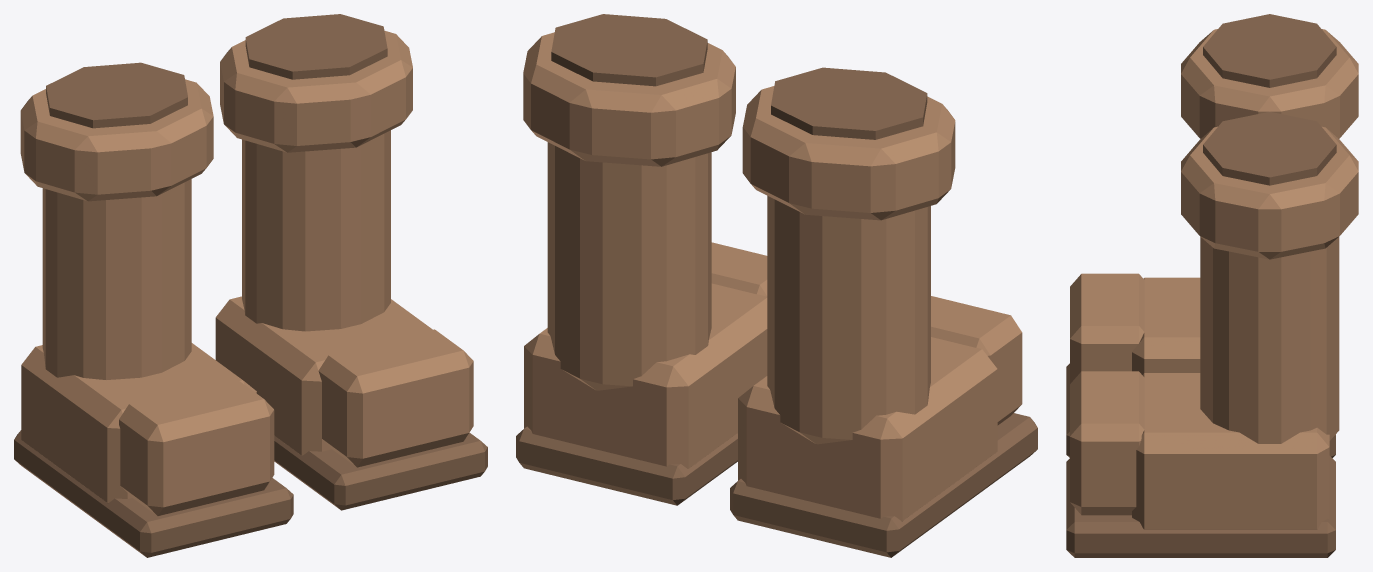
3 views of the same model, side by side, from view 1: azimuth 30°, elevation 25°; view 2: azimuth 150°, elevation 25°; view 3: azimuth 270°, elevation 25° (orthographic). The views are drawn at different scales.
Parts seen in each view (by area): view 1: left boot leg tube, right boot leg tube, left cute squared toe cap, right cute squared toe cap, left chunky folded cuff, right chunky folded cuff, left rounded boot foot, right rounded boot foot, left darker simple sole, right darker simple sole, right dark boot opening, left dark boot opening; view 2: right boot leg tube, left boot leg tube, left rounded boot foot, right rounded boot foot, left chunky folded cuff, right chunky folded cuff, left darker simple sole, right dark boot opening, left dark boot opening, right darker simple sole, left cute squared toe cap, right cute squared toe cap; view 3: right boot leg tube, right rounded boot foot, right chunky folded cuff, right cute squared toe cap, right darker simple sole, left chunky folded cuff, right dark boot opening, left dark boot opening, left cute squared toe cap, left rounded boot foot, left darker simple sole.
Part boxes in pixels (x1,y1,x2,y2): left boot leg tube: (42, 179, 191, 379); right boot leg tube: (242, 130, 390, 331); left cute squared toe cap: (119, 378, 274, 515); right cute squared toe cap: (318, 329, 473, 467); left chunky folded cuff: (20, 79, 213, 201); right chunky folded cuff: (220, 30, 412, 152); left rounded boot foot: (21, 343, 256, 502); right rounded boot foot: (215, 296, 432, 455); left darker simple sole: (14, 430, 293, 557); right darker simple sole: (274, 432, 487, 510); right dark boot opening: (245, 14, 387, 79); left dark boot opening: (46, 62, 187, 128); right boot leg tube: (547, 142, 711, 390); left boot leg tube: (767, 196, 930, 444); left rounded boot foot: (738, 337, 997, 521); right rounded boot foot: (524, 283, 767, 468); left chunky folded cuff: (742, 86, 955, 220); right chunky folded cuff: (523, 32, 735, 166); left darker simple sole: (730, 413, 1037, 557); right dark boot opening: (551, 14, 707, 86); left dark boot opening: (771, 67, 927, 139); right darker simple sole: (516, 426, 737, 505); left cute squared toe cap: (931, 296, 1022, 425); right cute squared toe cap: (711, 242, 767, 296); right boot leg tube: (1200, 237, 1339, 443); right rounded boot foot: (1132, 373, 1329, 529); right chunky folded cuff: (1181, 126, 1358, 259); right cute squared toe cap: (1070, 371, 1144, 515); right darker simple sole: (1066, 456, 1335, 557); left chunky folded cuff: (1181, 29, 1358, 138); right dark boot opening: (1203, 111, 1336, 185); left dark boot opening: (1203, 14, 1336, 87); left cute squared toe cap: (1070, 273, 1144, 383); left rounded boot foot: (1132, 277, 1200, 374); left darker simple sole: (1066, 363, 1335, 457).
Bounding box in the file's own units: 1.2 × 1.16 × 0.8095.
